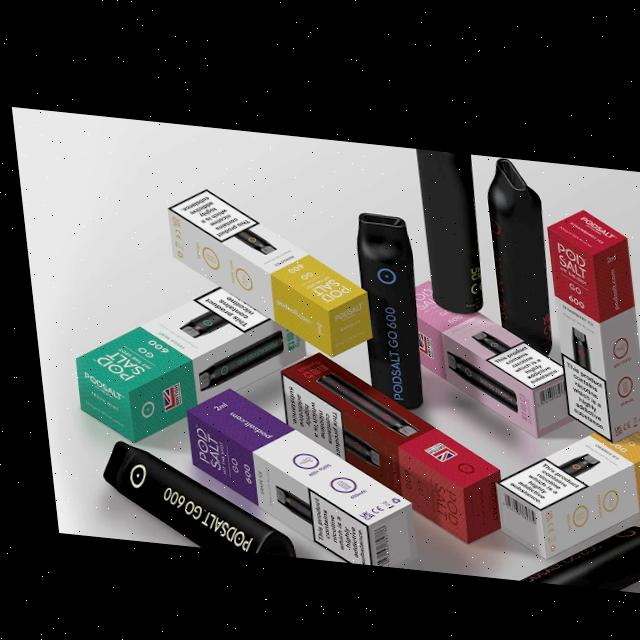vape: (92, 440, 284, 553), (352, 206, 416, 402), (484, 148, 546, 346), (414, 140, 478, 305), (507, 513, 640, 579), (309, 366, 410, 430), (190, 325, 277, 389), (439, 342, 510, 403), (265, 481, 301, 520), (335, 422, 370, 462), (172, 307, 222, 335), (230, 224, 272, 250), (549, 442, 591, 466), (465, 321, 504, 345), (565, 315, 585, 359)
